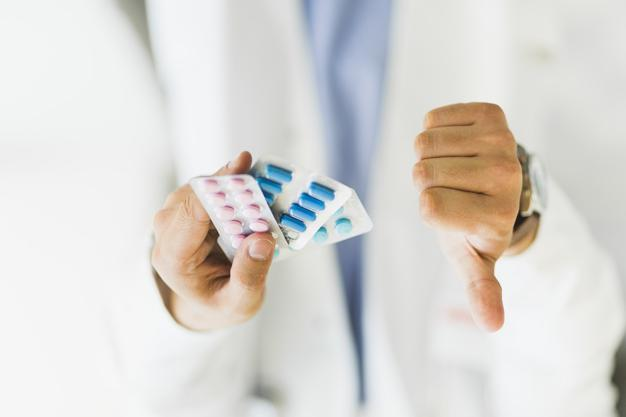thumbsdown: (412, 102, 522, 333)
